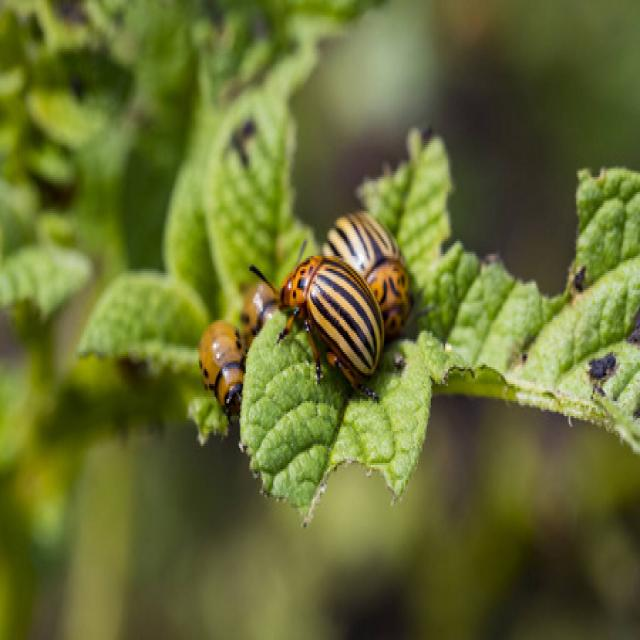ShuCaiHuaBanChong-Grown-: (268, 255, 389, 389)
